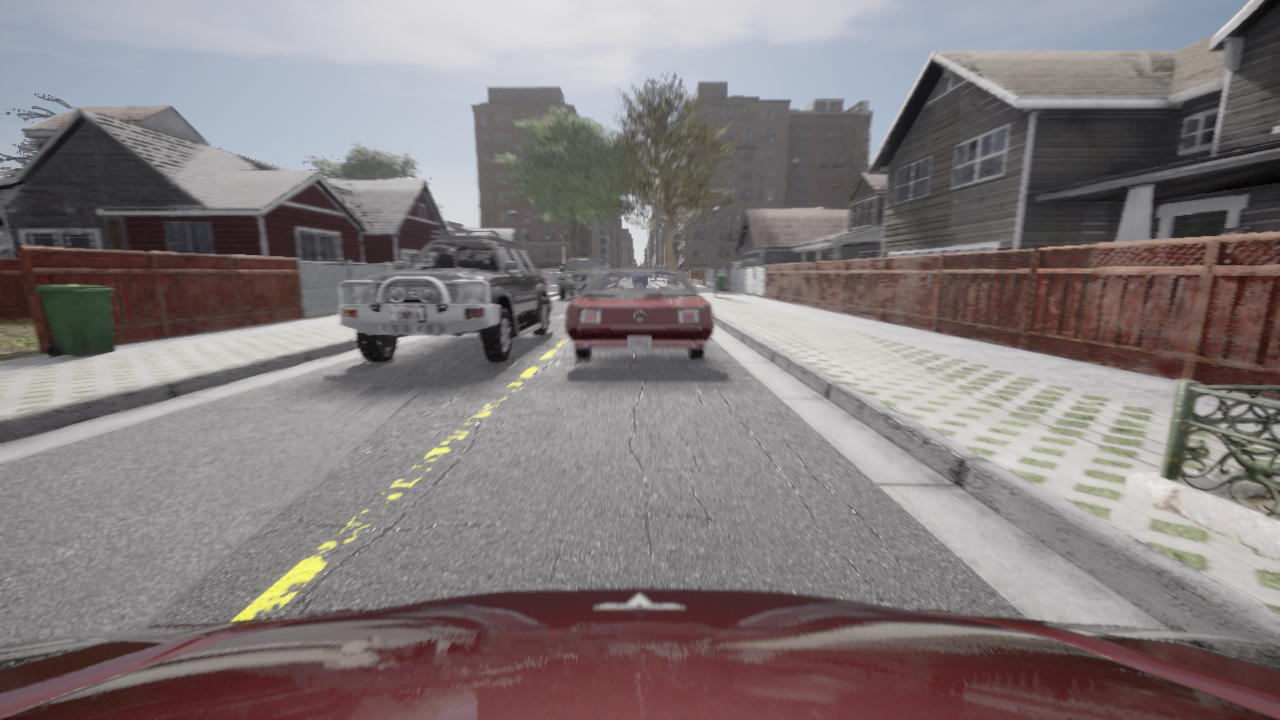cyclist: (0, 588, 1279, 719), (338, 230, 551, 362), (566, 268, 713, 359), (558, 257, 608, 299)
